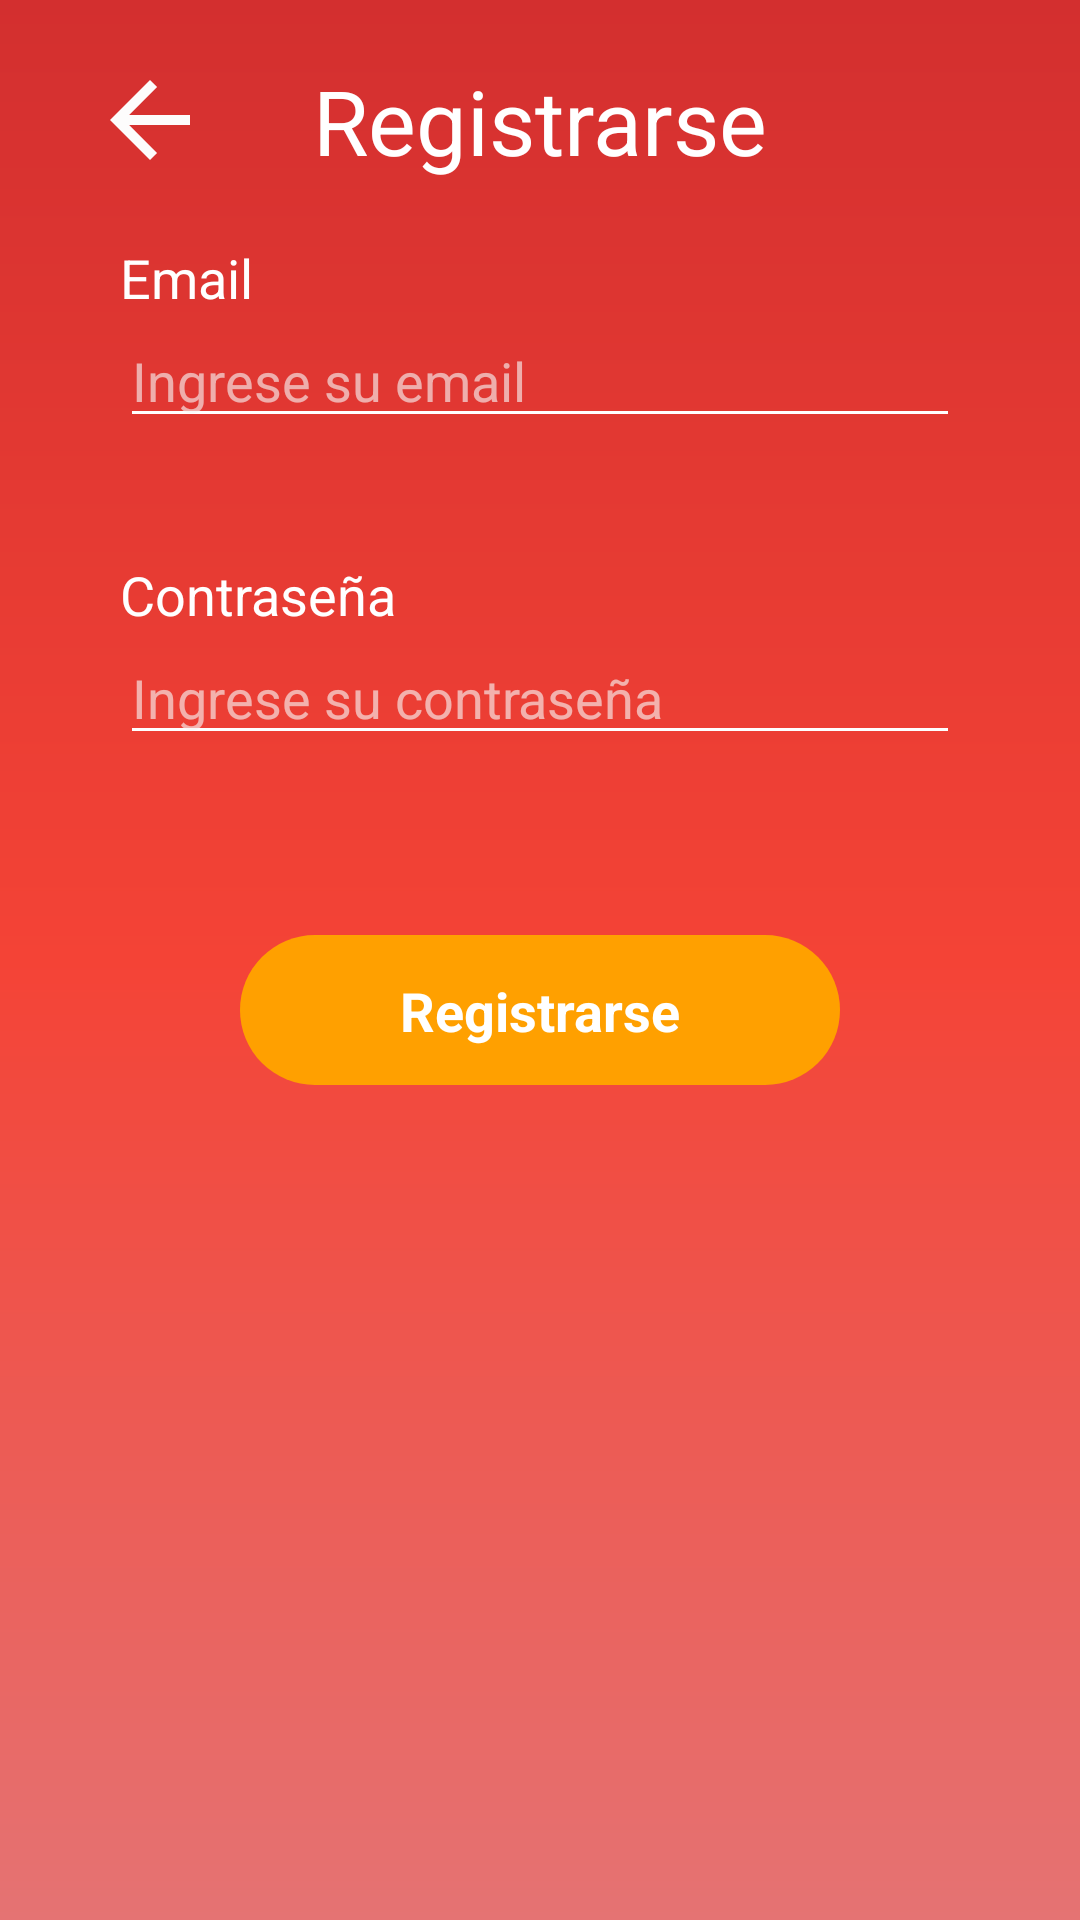

Point at icon controls on the screen. Image size 1080×1920, points as point (x, y).
back: point (150, 120)
